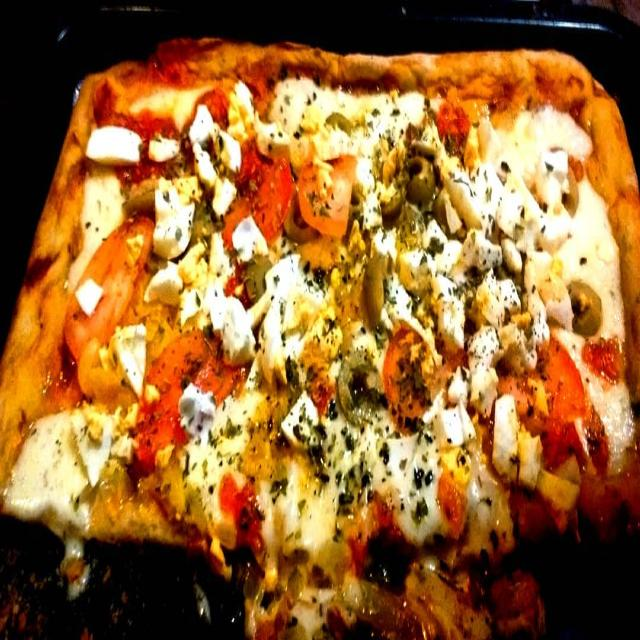green_olives: (338, 348, 380, 425), (363, 250, 391, 331), (569, 276, 605, 339), (402, 155, 436, 200), (244, 255, 274, 300)
pizza: (0, 37, 640, 592)
tomatoes: (138, 317, 246, 463), (62, 215, 157, 364), (503, 337, 585, 442), (222, 142, 294, 256), (382, 318, 442, 433), (296, 147, 359, 237), (436, 100, 470, 154)
